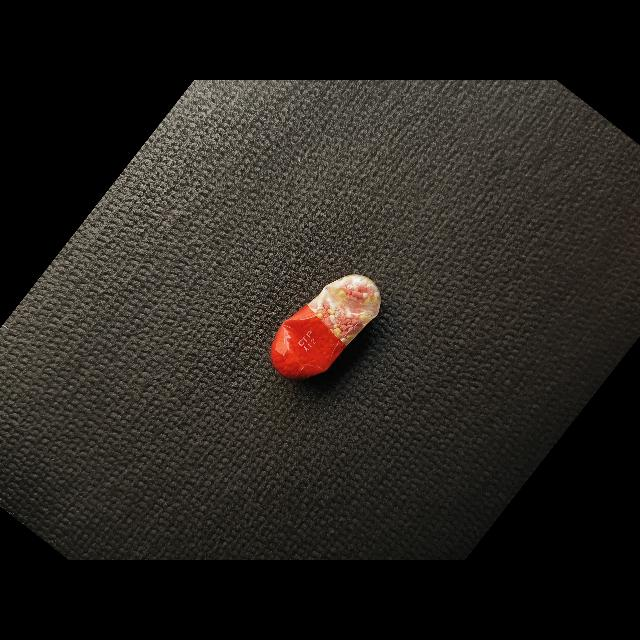Defective Capsule: (270, 274, 381, 379)
